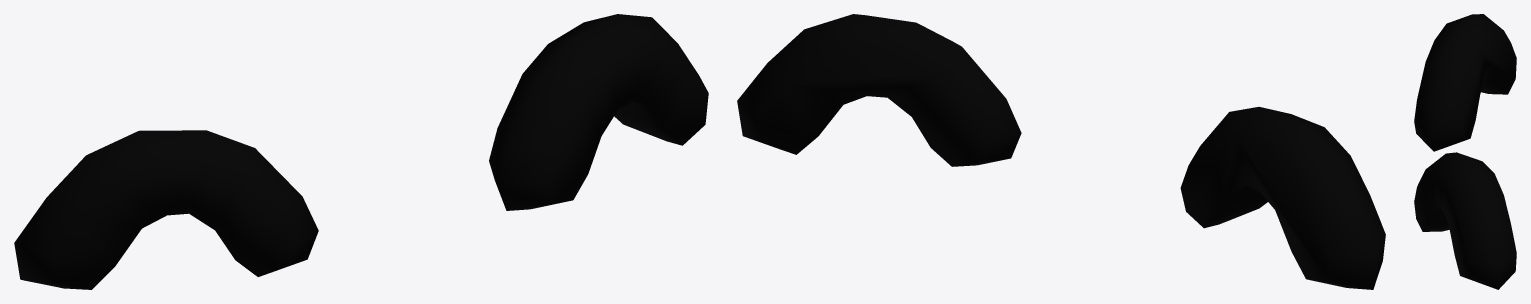
The model's file is eyebrows_01.fbx.
3 renders of one model, left to right at view 1: azimuth 30°, elevation 25°; view 2: azimuth 150°, elevation 25°; view 3: azimuth 270°, elevation 25°, orthographic. The views are drawn at different scales.
Visible parts, largest first — view 1: Eyebrows_01; view 2: Eyebrows_01; view 3: Eyebrows_01.
Boxes of the visible parts, bbox=[...] form: Eyebrows_01: bbox=[14, 14, 708, 289]; Eyebrows_01: bbox=[737, 14, 1385, 289]; Eyebrows_01: bbox=[1414, 14, 1516, 289].
Bounding box in the file's own units: 87.49 × 18.54 × 17.37.
